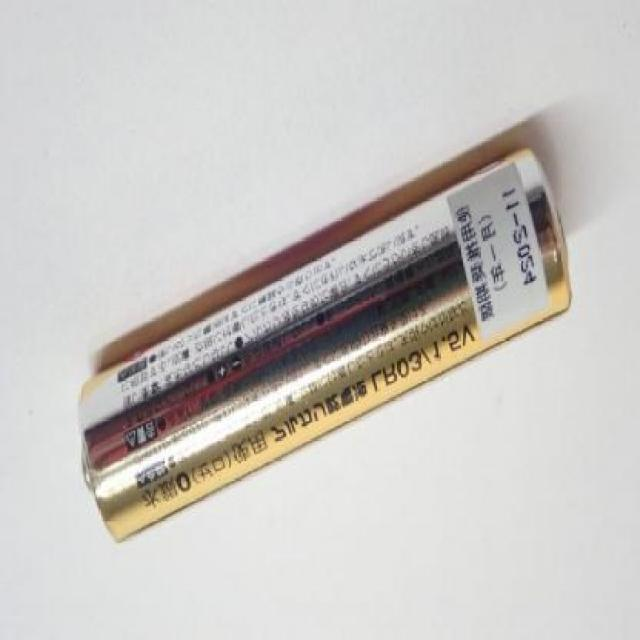hazardous waste: (77, 138, 580, 572)
